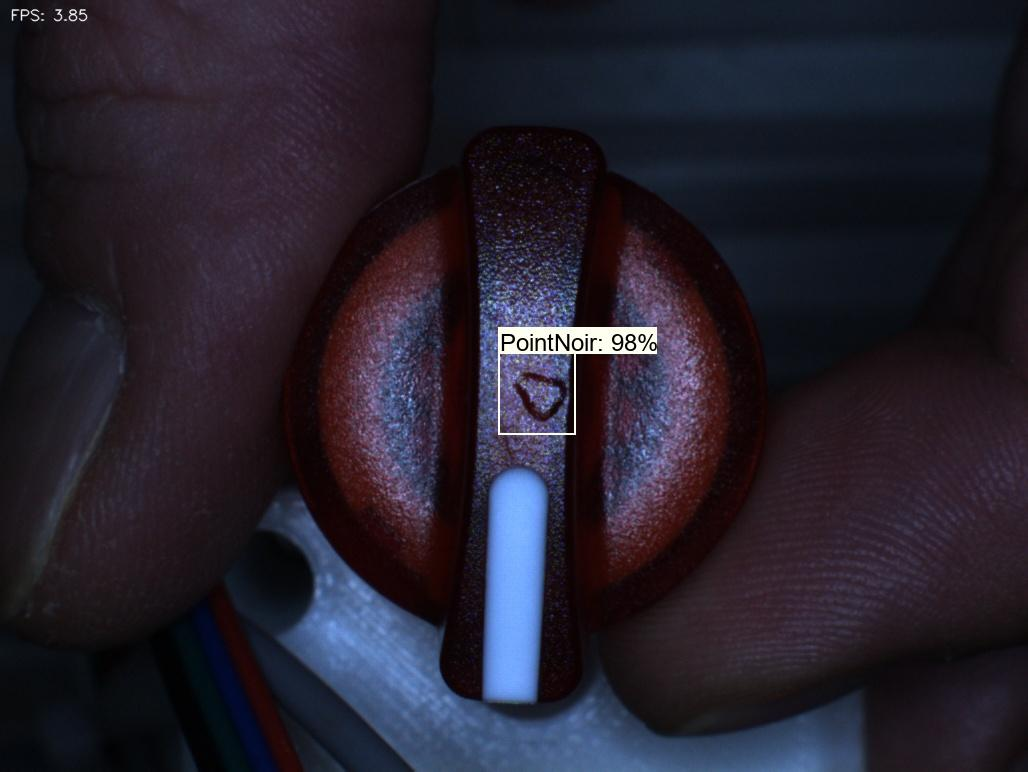Choc: (497, 362, 582, 442)
